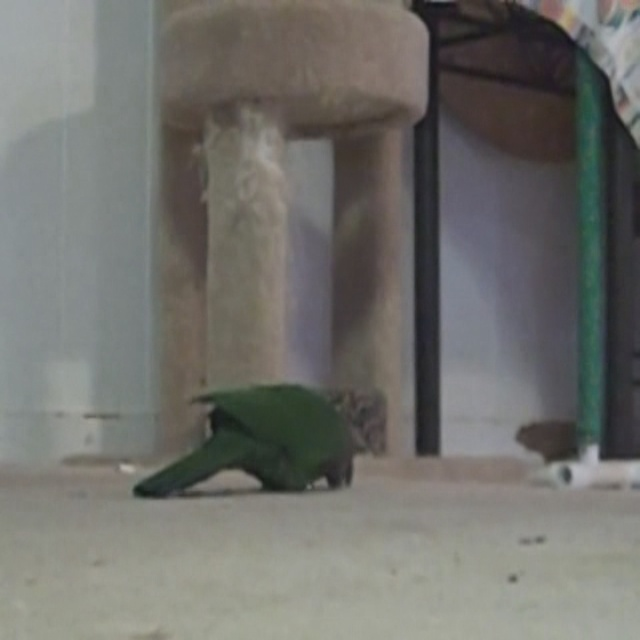Parrot: (130, 380, 353, 500)
